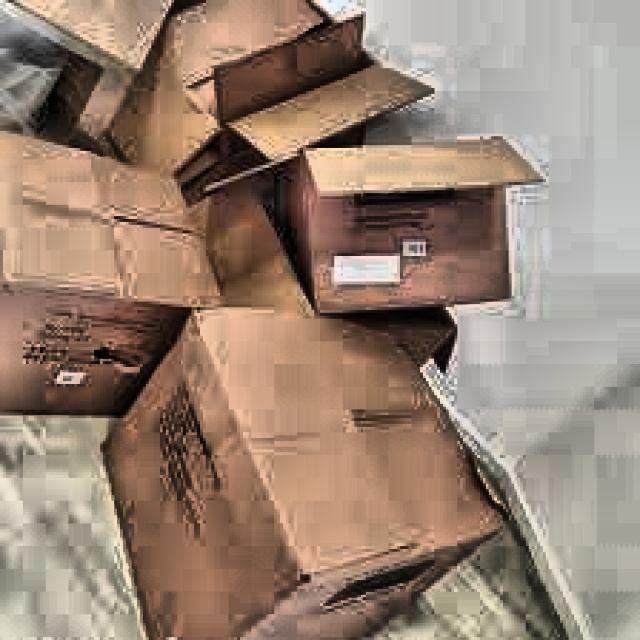cardboard: (0, 0, 543, 637)
